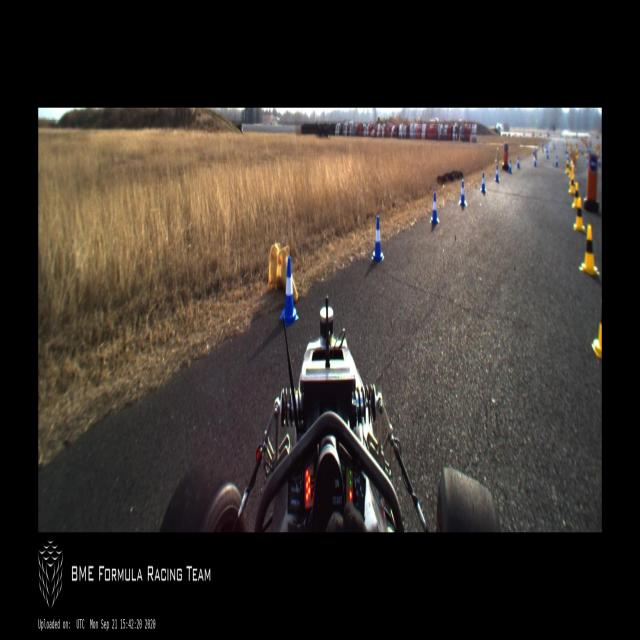blue_cone: (280, 258, 298, 324), (371, 216, 384, 262), (430, 192, 439, 223), (458, 180, 466, 205), (480, 173, 486, 192), (494, 165, 500, 183), (508, 158, 512, 174), (517, 156, 519, 169)
unknown_cone: (277, 245, 298, 303), (268, 242, 281, 290)
yellow_cone: (580, 224, 598, 276), (591, 296, 602, 360), (573, 197, 585, 231), (571, 182, 579, 208), (569, 172, 576, 194), (566, 161, 569, 173)
